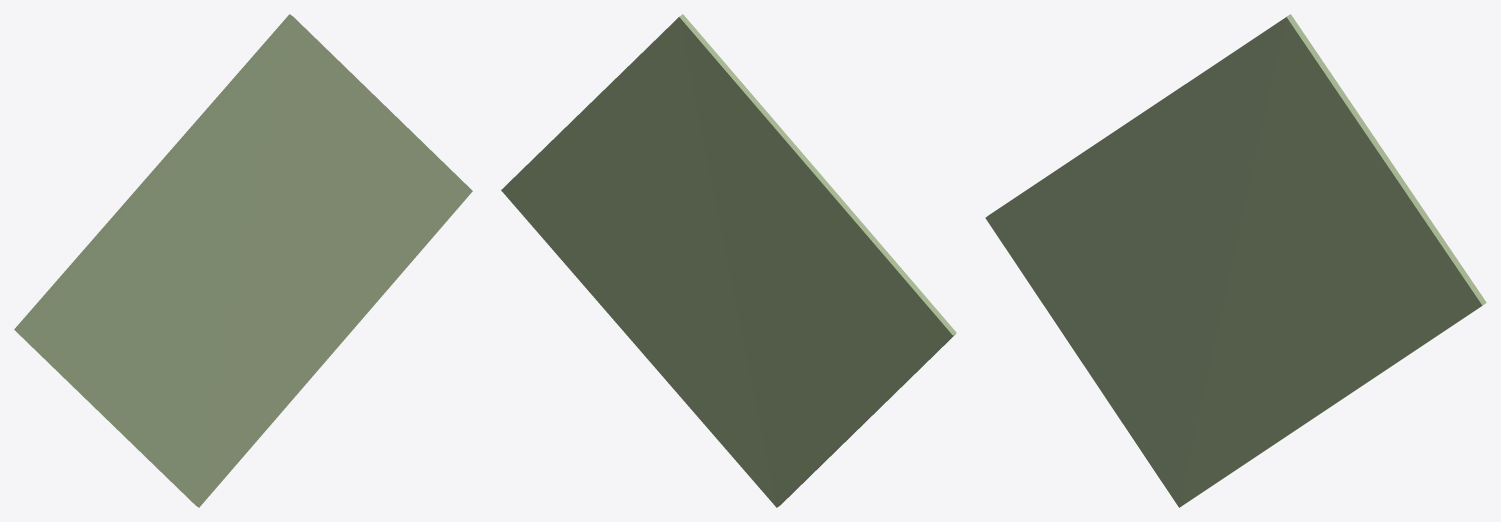
3 views of the same model, side by side, from view 1: azimuth 30°, elevation 25°; view 2: azimuth 150°, elevation 25°; view 3: azimuth 330°, elevation 25° (orthographic). The views are drawn at different scales.
Visible parts, largest first — view 1: urn:npust:smart-agriculture-management-platform:face:educati; view 2: urn:npust:smart-agriculture-management-platform:face:educati; view 3: urn:npust:smart-agriculture-management-platform:face:educati.
Boxes of the visible parts, x1,y1,x2,y2 form: urn:npust:smart-agriculture-management-platform:face:educati: [14, 14, 472, 507]; urn:npust:smart-agriculture-management-platform:face:educati: [501, 14, 956, 507]; urn:npust:smart-agriculture-management-platform:face:educati: [985, 14, 1486, 507].
Size of the model in its own units: 17.13 by 16.88 by 0.435.
